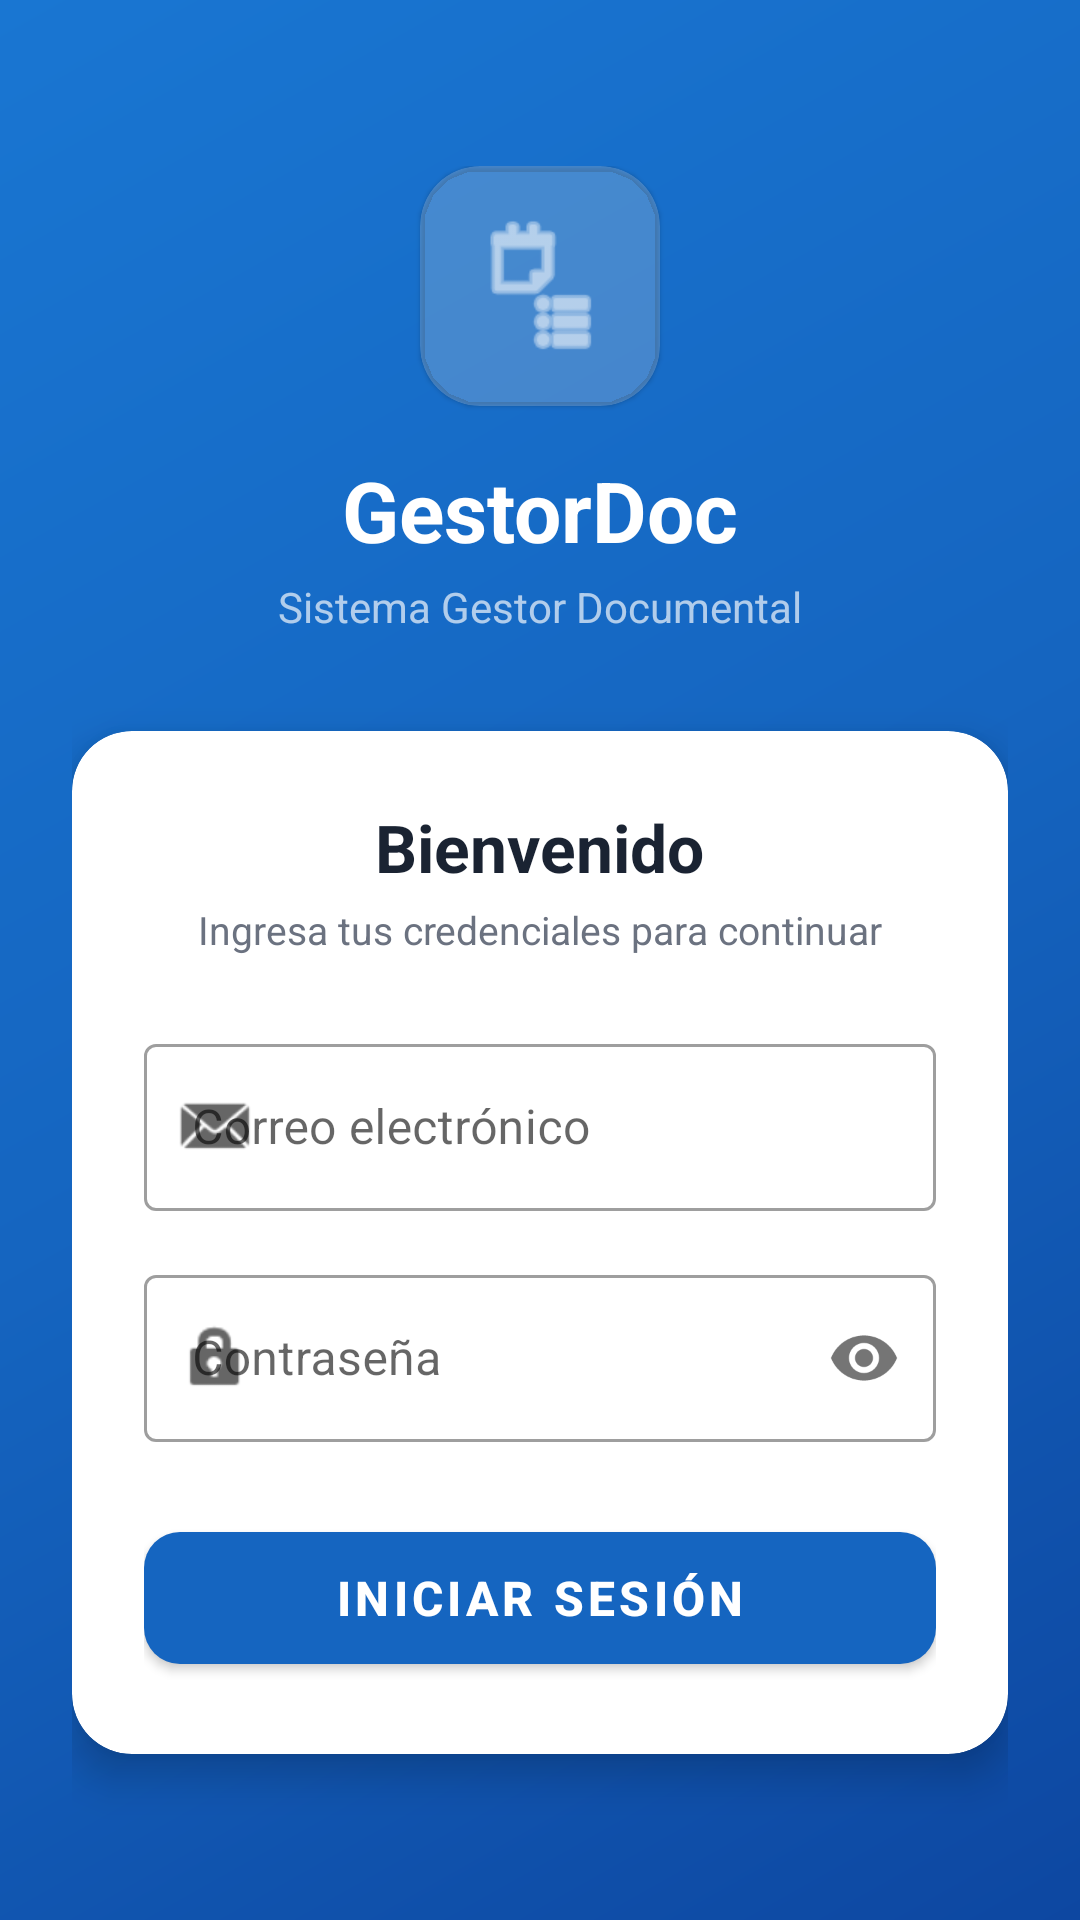

Icons on this 1080px×1920px Android screen, each with the point to tap as [x,y]:
agenda: [540,285]
